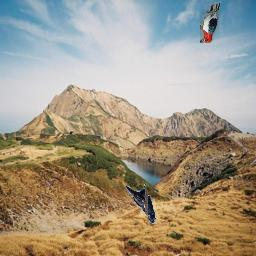Crow: (126, 184, 156, 224)
Woodpecker: (200, 3, 220, 43)
